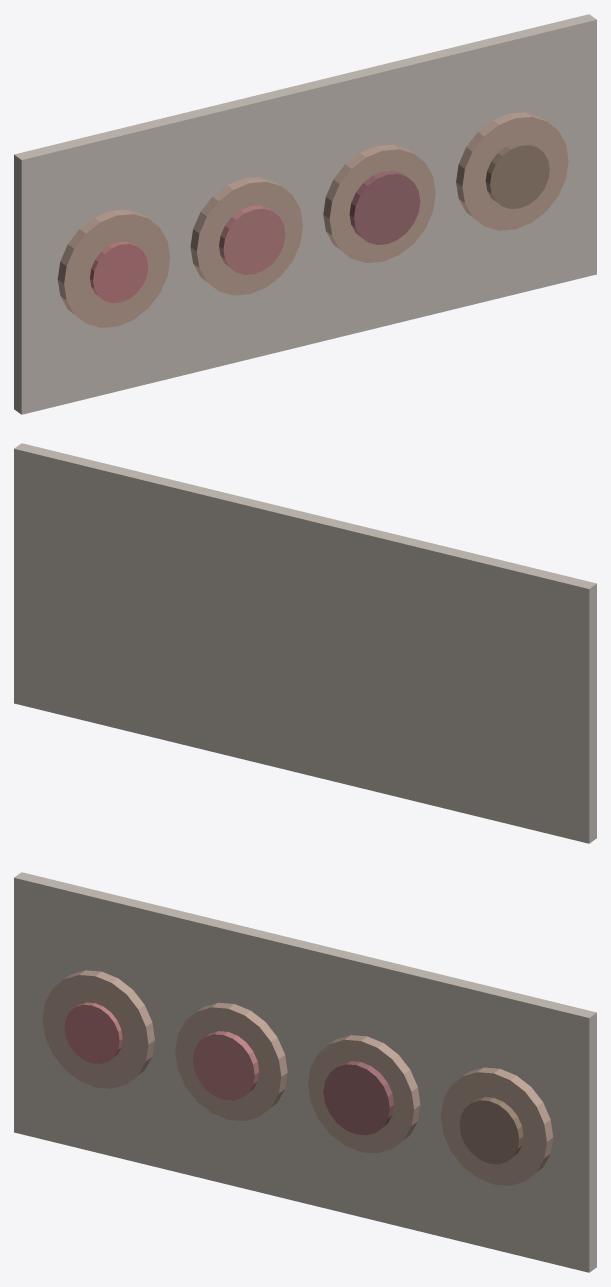
The model's file is wound-samples-medium.glb.
3 renders of one model, top to bottom at view 1: azimuth 30°, elevation 25°; view 2: azimuth 150°, elevation 25°; view 3: azimuth 330°, elevation 25°, orthographic.
Visible parts, largest first — view 1: sample_board, skin_sample_1, skin_sample_4, skin_sample_2, skin_sample_3, visual_change_3, visual_change_2, visual_change_4, visual_change_1; view 2: sample_board; view 3: sample_board, skin_sample_1, skin_sample_4, skin_sample_2, skin_sample_3, visual_change_3, visual_change_2, visual_change_4, visual_change_1.
Boxes of the visible parts, x1,y1,x2,y2 form: sample_board: [14, 14, 596, 414]; skin_sample_1: [57, 209, 170, 327]; skin_sample_4: [456, 112, 568, 230]; skin_sample_2: [190, 177, 302, 295]; skin_sample_3: [323, 144, 435, 262]; visual_change_3: [349, 170, 420, 244]; visual_change_2: [219, 205, 285, 274]; visual_change_4: [485, 142, 549, 208]; visual_change_1: [90, 241, 148, 303]; sample_board: [14, 443, 596, 843]; sample_board: [14, 872, 596, 1272]; skin_sample_1: [42, 970, 154, 1088]; skin_sample_4: [440, 1067, 553, 1185]; skin_sample_2: [175, 1002, 287, 1120]; skin_sample_3: [308, 1035, 420, 1153]; visual_change_3: [323, 1061, 394, 1135]; visual_change_2: [193, 1031, 259, 1100]; visual_change_4: [459, 1097, 523, 1164]; visual_change_1: [64, 1002, 122, 1063].
Bounding box in the file's own units: 5.2 × 2.2 × 0.3.
